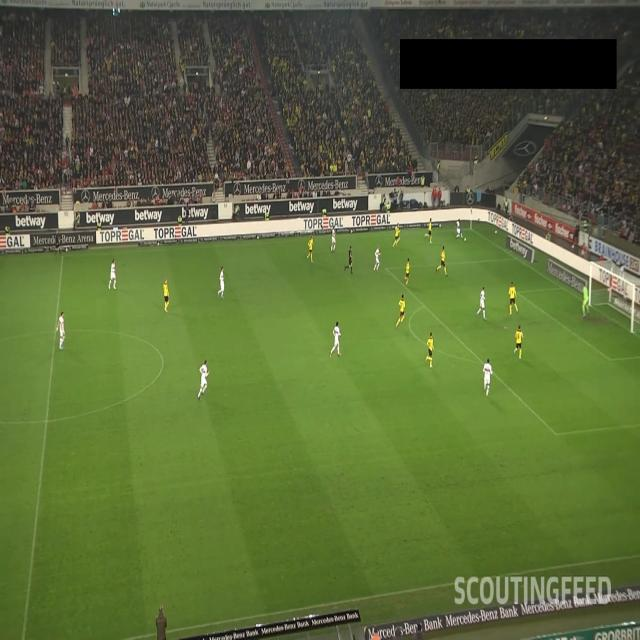ball: (464, 237, 466, 242)
